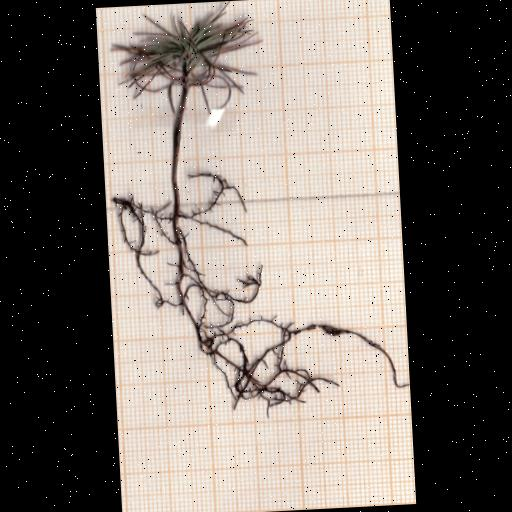flowerCedr: (116, 2, 260, 115)
rootCedr: (114, 174, 406, 415)
stemCedr: (170, 86, 189, 203)
